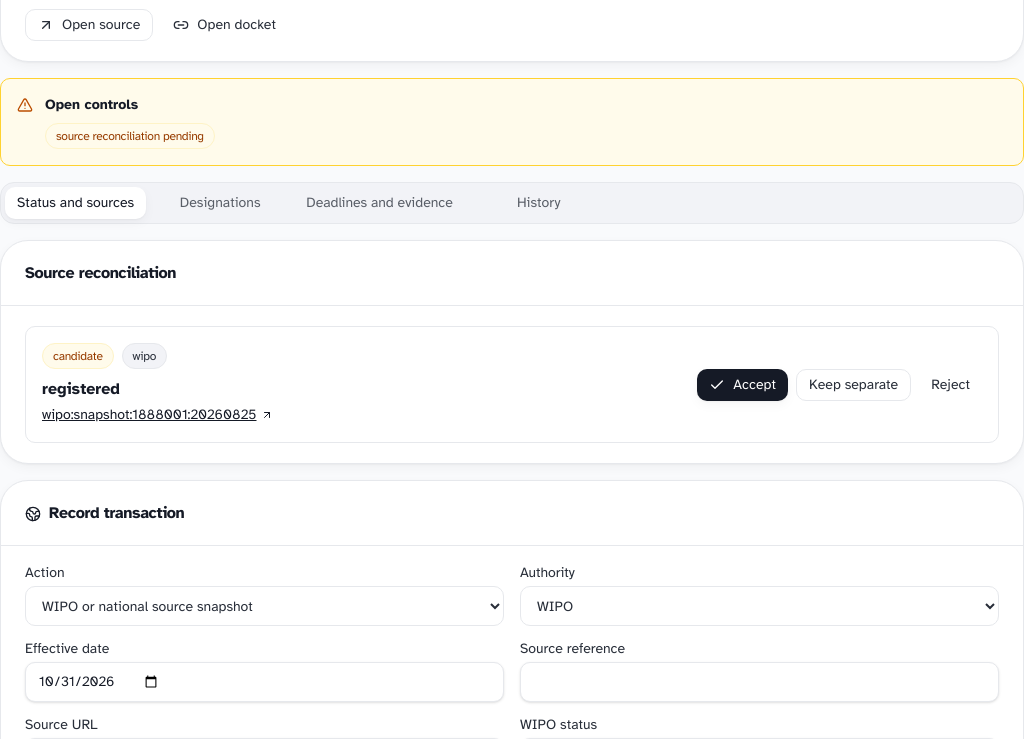
Madrid portfolio › keeps designation statuses independent and reconciles a linked source candidate
(page scrolled)
Click the button "Accept" at {"x": 743, "y": 384}, box [697,368,788,400]
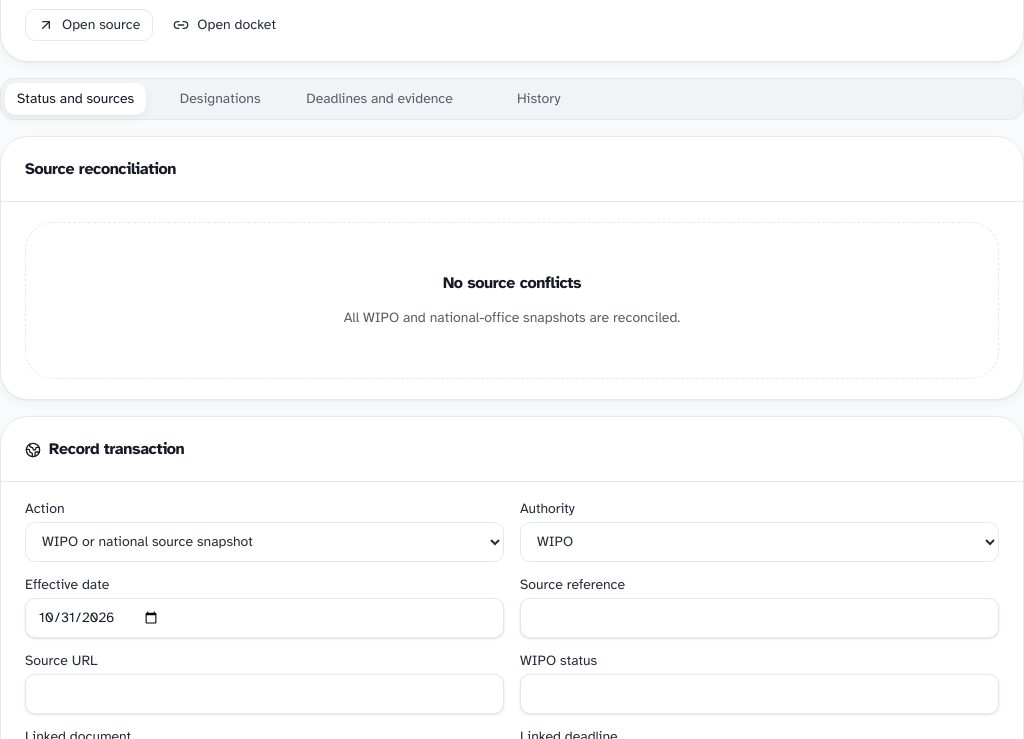
Expected: the heading "No source conflicts" is shown, [443,271,581,295]
Expected: the button "Accept" is gone
Expected: the button "Keep separate" is gone
Click the tab "Designations" at {"x": 220, "y": 99}, box [150,83,290,115]
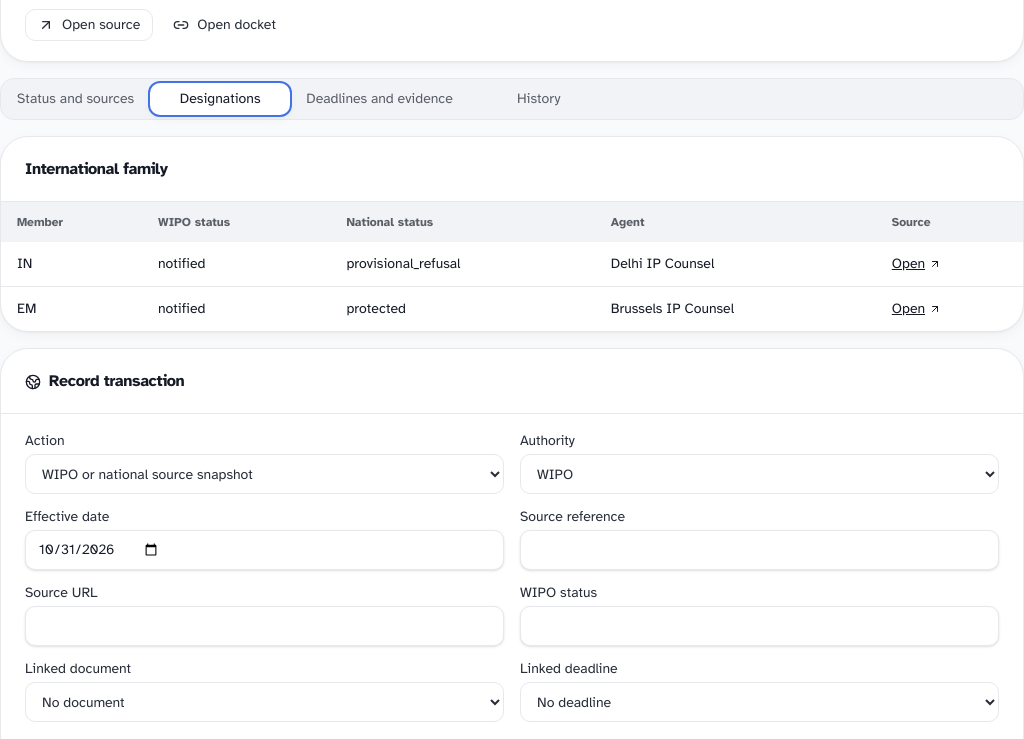
Expected: the row "IN" is shown, [1,242,1023,286]
Expected: the row "EM" is shown, [1,286,1023,331]
Expected: the text "provisional_refusal" is shown, [330,242,595,286]
Click the tab "History" at {"x": 539, "y": 99}, box [469,83,609,115]
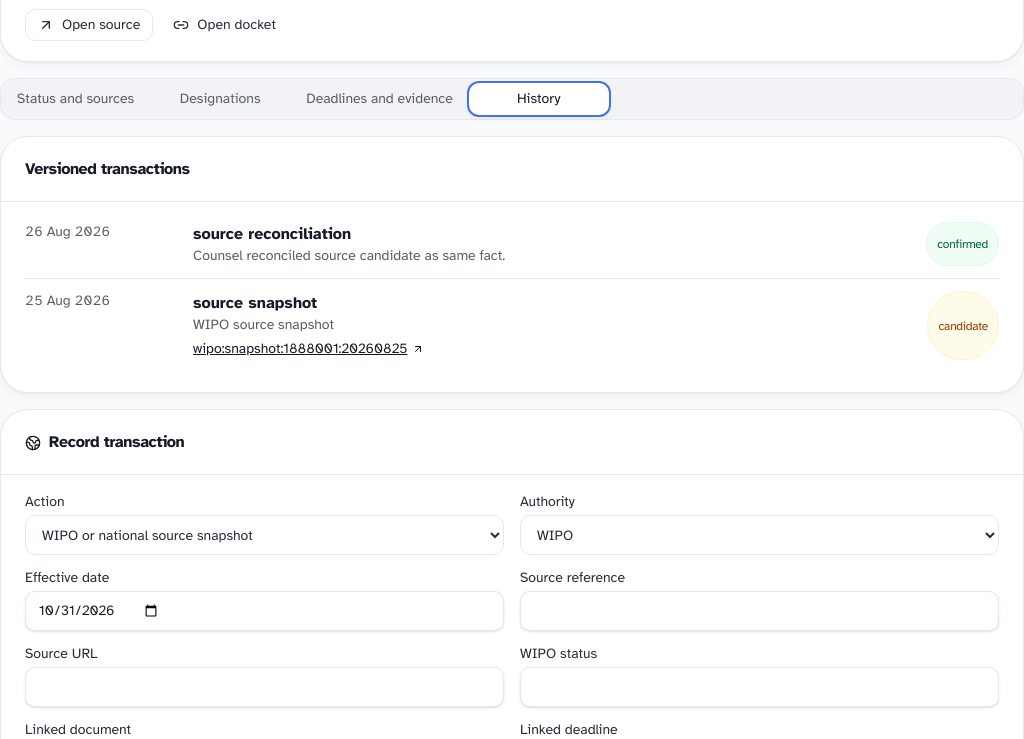
Expected: the text "Counsel reconciled source candidate as same fact." is shown, [193,247,505,264]
